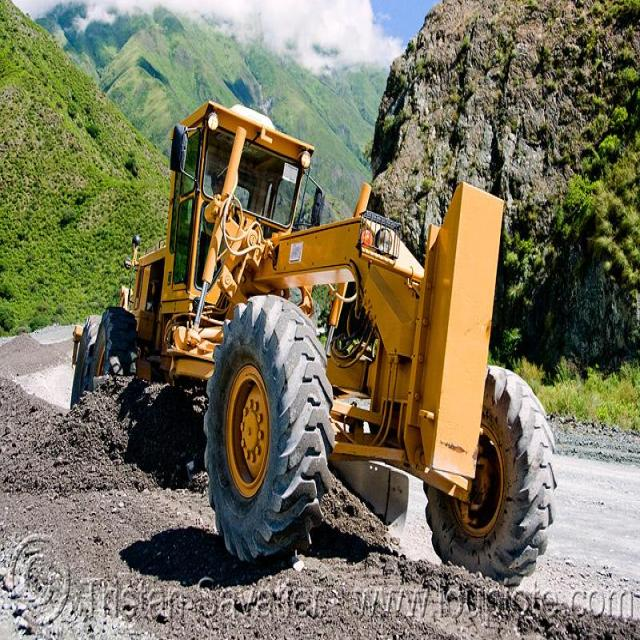buldozerpayloadergrader: (62, 95, 570, 582)
